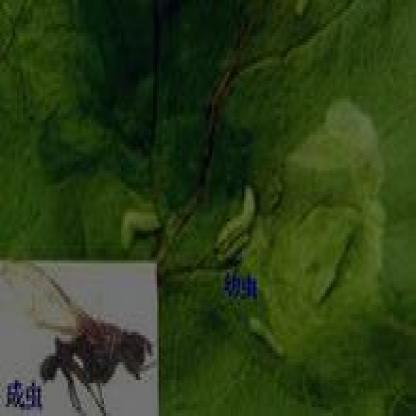whorl-maggot: (211, 182, 258, 270), (115, 203, 162, 252), (248, 310, 288, 366)
